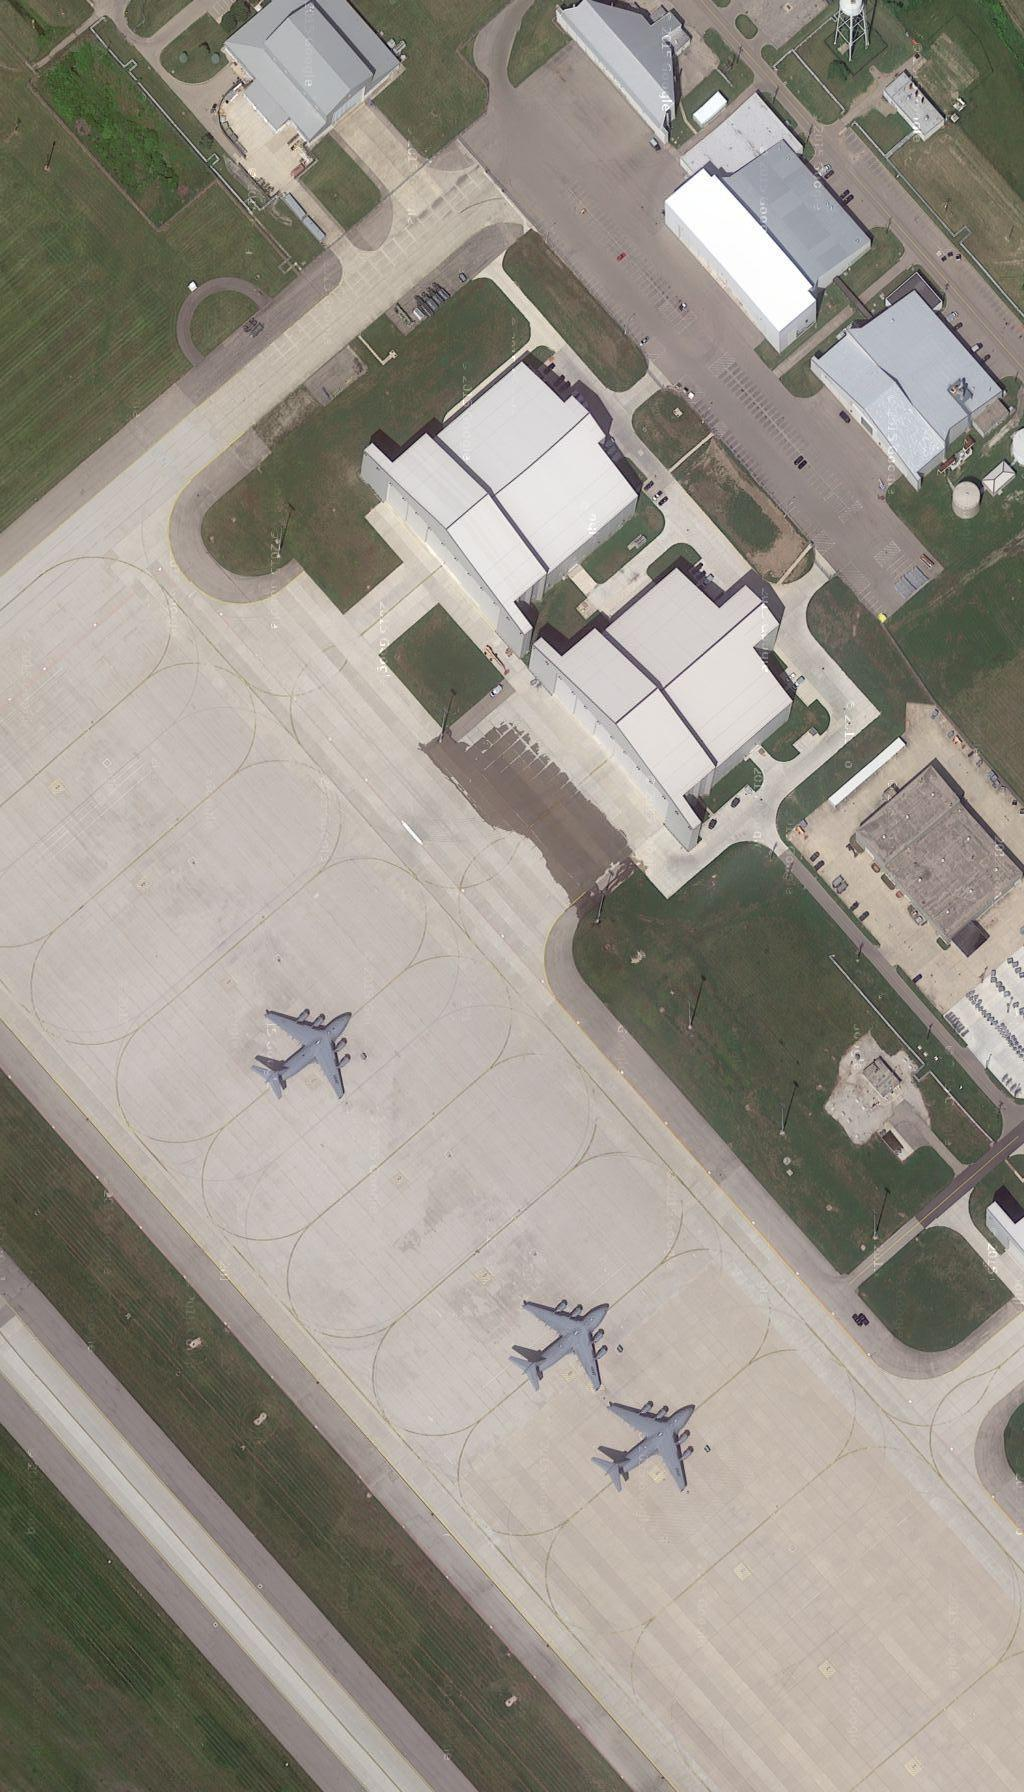C-17: (503, 1287, 617, 1403), (245, 999, 358, 1113), (586, 1392, 699, 1504)
